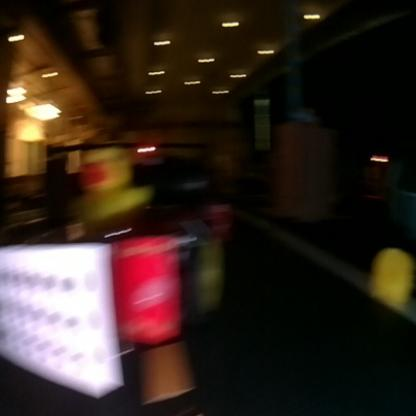duckie: (71, 132, 156, 209), (361, 232, 415, 319)
duckiebot: (0, 211, 250, 400)
